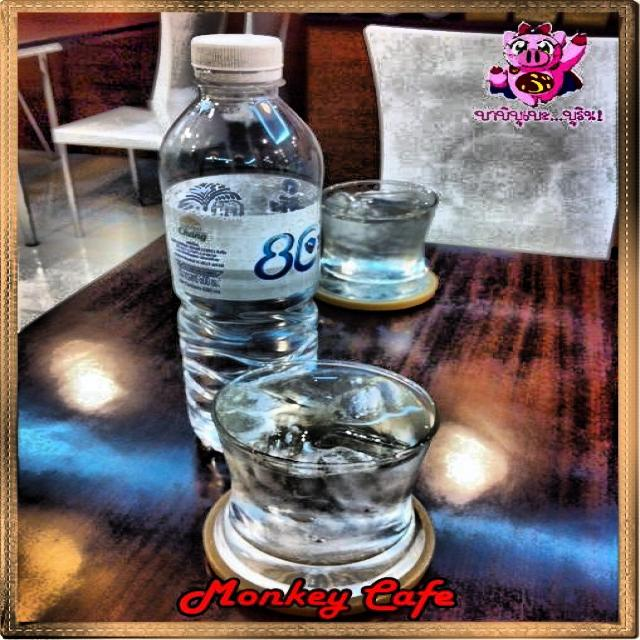Bottles: (153, 22, 332, 460)
